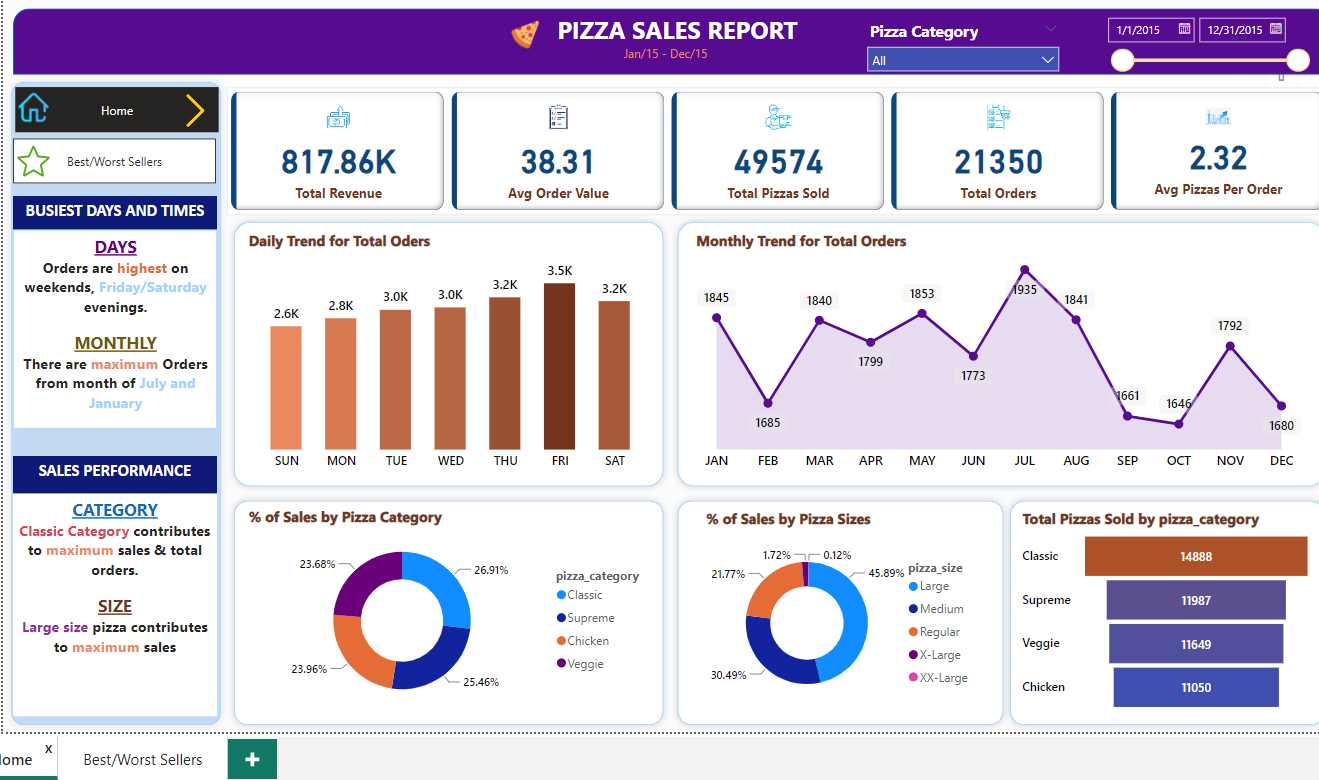

The dashboard page shown, as its layout file describes it:
{"tool":"powerbi","page":{"name":"Home","canvas":[1500,820],"ordinal":0},"visuals":[{"type":"shape","box":[743.4,554.1,378.7,265.9],"z":0},{"type":"shape","box":[1.4,87.7,249.2,732.3],"z":1000},{"type":"cardVisual","fields":{"Data":["Pizza_Sales.Total Revenue","Pizza_Sales.Avg Order Value","Pizza_Sales.Total Pizzas Sold","Pizza_Sales.Total Orders","Pizza_Sales.Avg Pizzas Per Order"]},"box":[249.2,101.6,1230.7,142],"z":2000},{"type":"shape","box":[11.1,13.9,1468.8,73.8],"z":3000},{"type":"textbox","box":[600,13.9,302.1,50.1],"z":4000},{"type":"textbox","box":[686.3,50.1,112.8,27.8],"z":5000},{"type":"image","box":[541.6,22.3,79.4,41.8],"z":6000},{"type":"shape","box":[249.2,243.6,494.2,310.5],"z":7000},{"type":"columnChart","title":"Daily Trend for Total Oders","fields":{"Category":["Pizza_Sales.Order Day"],"Y":["Pizza_Sales.Total Orders"]},"box":[268.7,260.3,460.8,277],"z":8000},{"type":"shape","box":[743.4,243.6,736.5,310.5],"z":9000},{"type":"areaChart","title":"Monthly Trend for Total Orders","fields":{"Category":["Pizza_Sales.Order Month"],"Y":["Pizza_Sales.Total Orders"]},"box":[767.1,260.3,685,277],"z":10000},{"type":"shape","box":[249.2,554.1,494.2,265.9],"z":11000},{"type":"shape","box":[1113.8,554.1,366.1,265.9],"z":12000},{"type":"donutChart","title":"% of Sales by Pizza Category","fields":{"Category":["Pizza_Sales.pizza_category"],"Y":["Pizza_Sales.Total Revenue"]},"box":[268.7,568,460.8,233.9],"z":13000},{"type":"donutChart","title":"% of Sales by Pizza Sizes","fields":{"Category":["Pizza_Sales.pizza_size"],"Y":["Pizza_Sales.Total Revenue"]},"box":[778.2,570.8,314.6,233.9],"z":14000},{"type":"funnel","fields":{"Category":["Pizza_Sales.pizza_category"],"Y":["Pizza_Sales.Total Pizzas Sold"]},"box":[1130.5,570.8,332.7,231.1],"z":15000},{"type":"textbox","box":[11.1,222.8,226.9,37.6],"z":16000},{"type":"textbox","box":[11.1,260.3,226.9,221.4],"z":17000},{"type":"textbox","box":[11.1,554.1,226.9,247.8],"z":18000},{"type":"textbox","box":[11.1,512.3,226.9,41.8],"z":19000},{"type":"slicer","fields":{"Values":["Pizza_Sales.pizza_category"]},"box":[952.3,22.3,233.9,79.4],"z":20000},{"type":"slicer","fields":{"Values":["Pizza_Sales.order_date"]},"box":[1218.2,13.9,245,73.8],"z":21000},{"type":"pageNavigator","box":[13.9,101.6,226.9,50.1],"z":21001},{"type":"pageNavigator","box":[11.1,158.7,226.9,50.1],"z":21002},{"type":"image","box":[12.5,101.6,43.2,44.6],"z":21003},{"type":"image","box":[190.7,101.6,47.3,51.5],"z":21004},{"type":"image","box":[11.1,158.7,45.9,50.1],"z":21005}]}

Visuals, with their boxes on the page's 1500x820 design canvas (x1, y1, x2, y2). These are canvas units, not pixel positions in the 1319x780 screenshot, which may show the page scaled, cropped or inside an application window:
shape: 743/554/1122/820
shape: 1/88/251/820
cardVisual - Pizza_Sales.Total Revenue x Pizza_Sales.Avg Order Value: 249/102/1480/244
shape: 11/14/1480/88
textbox: 600/14/902/64
textbox: 686/50/799/78
image: 542/22/621/64
shape: 249/244/743/554
"Daily Trend for Total Oders" columnChart: 269/260/730/537
shape: 743/244/1480/554
"Monthly Trend for Total Orders" areaChart: 767/260/1452/537
shape: 249/554/743/820
shape: 1114/554/1480/820
"% of Sales by Pizza Category" donutChart: 269/568/730/802
"% of Sales by Pizza Sizes" donutChart: 778/571/1093/805
funnel - Pizza_Sales.pizza_category x Pizza_Sales.Total Pizzas Sold: 1130/571/1463/802
textbox: 11/223/238/260
textbox: 11/260/238/482
textbox: 11/554/238/802
textbox: 11/512/238/554
slicer - Pizza_Sales.pizza_category: 952/22/1186/102
slicer - Pizza_Sales.order_date: 1218/14/1463/88
pageNavigator: 14/102/241/152
pageNavigator: 11/159/238/209
image: 12/102/56/146
image: 191/102/238/153
image: 11/159/57/209
